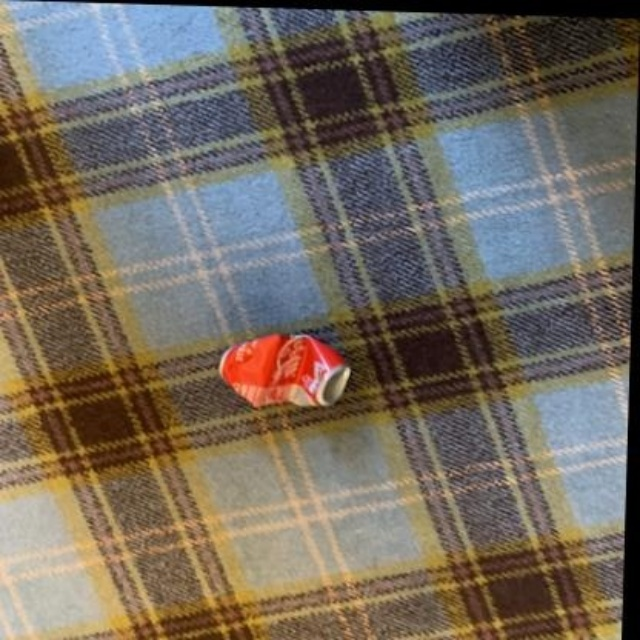trash: (220, 334, 349, 406)
